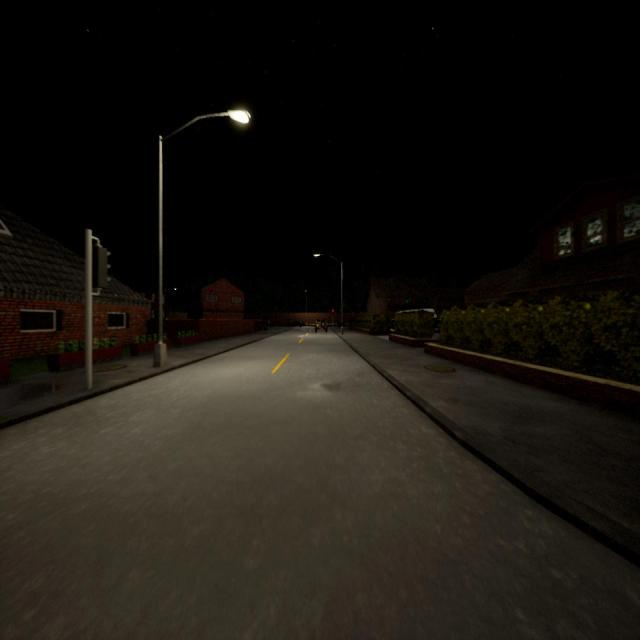Vehicle: (314, 318, 328, 333)
traffic_light: (332, 308, 334, 316)
